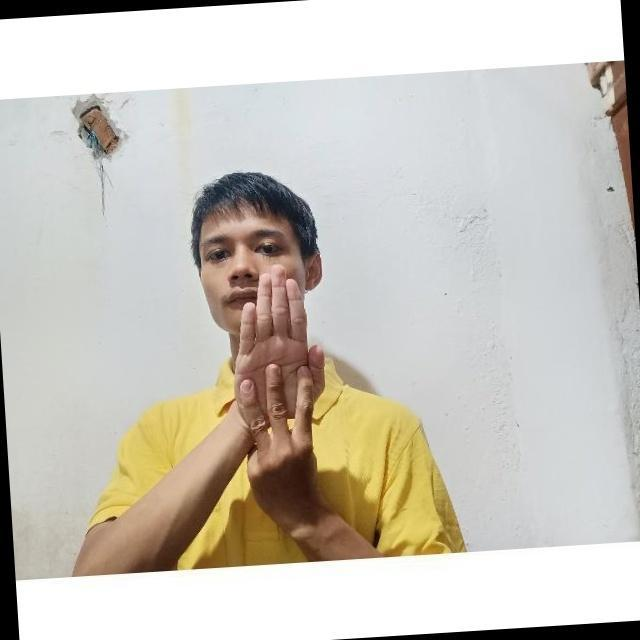M: (232, 256, 332, 452)
